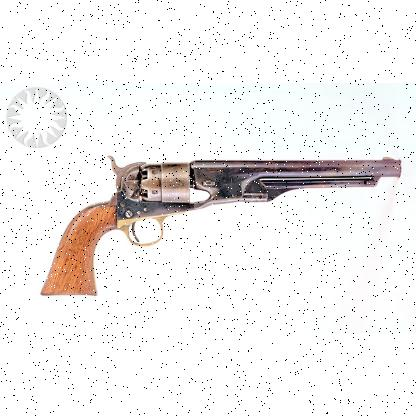gun: (40, 154, 402, 294)
